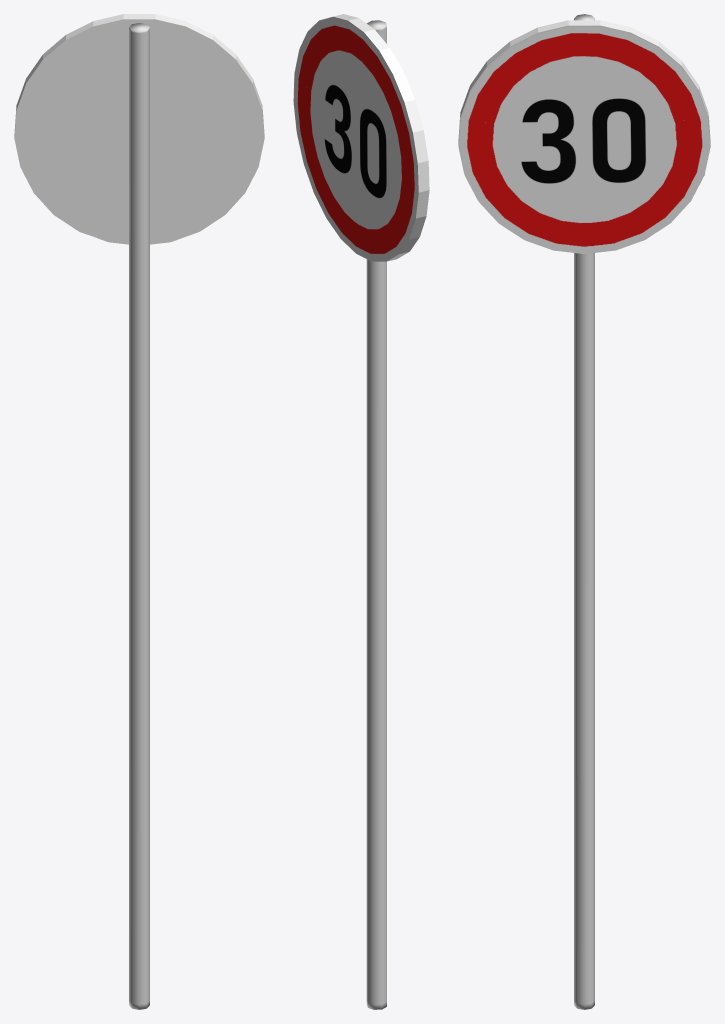
File: sign_speed_limit_30.glb
3 views of the same model, side by side, from view 1: azimuth 90°, elevation 25°; view 2: azimuth 210°, elevation 25°; view 3: azimuth 270°, elevation 25° (orthographic).
Visible parts, largest first — view 1: speed_limit_30, pole; view 2: speed_limit_30, pole; view 3: speed_limit_30, pole.
Boxes of the visible parts, box(x1,y1,x2,y2) form: speed_limit_30: box(14, 14, 264, 244); pole: box(129, 23, 149, 1009); speed_limit_30: box(293, 14, 429, 261); pole: box(366, 20, 386, 1009); speed_limit_30: box(458, 20, 710, 253); pole: box(574, 14, 594, 1009).
Size of the model in its own units: 0.0826 by 2.6 by 0.6.
2 materials, 1 textured.
